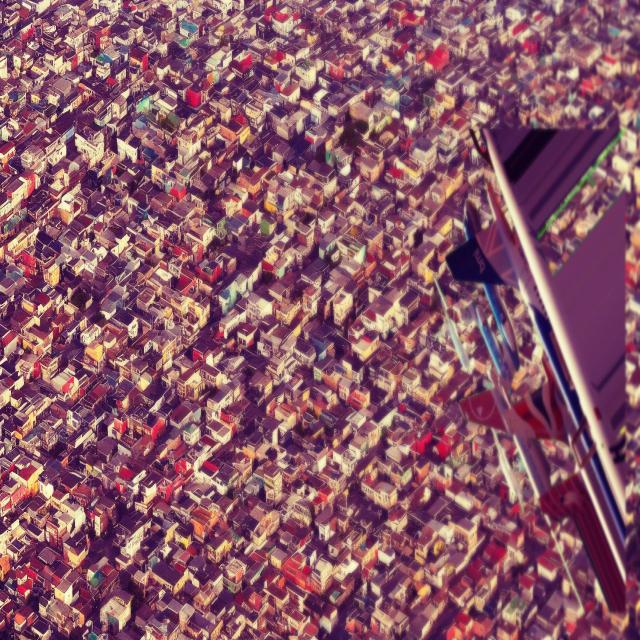airplane: (444, 113, 630, 615)
